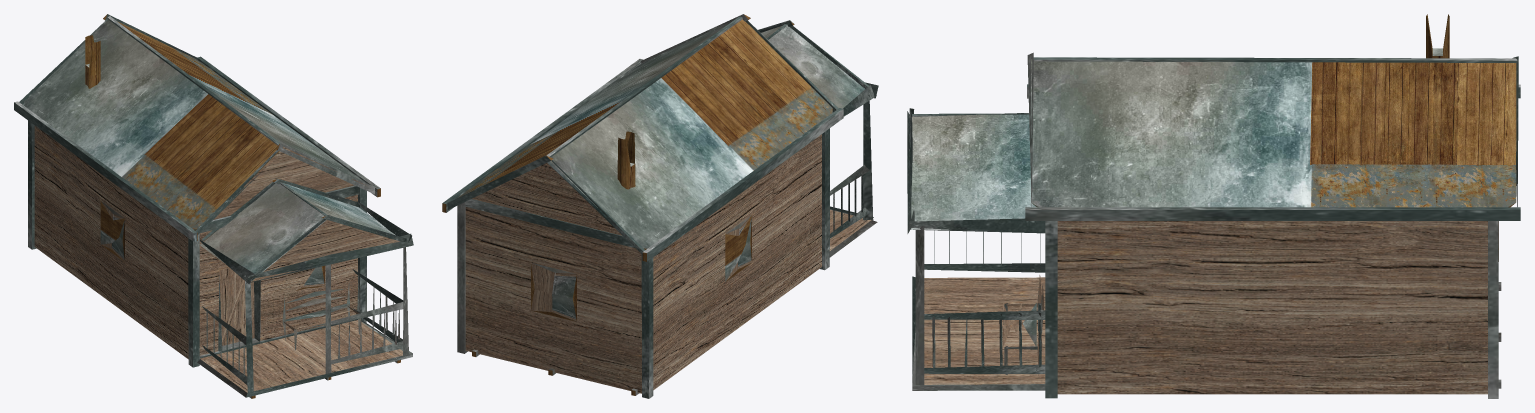
The model's file is Building02.fbx.
3 views of the same model, side by side, from view 1: azimuth 30°, elevation 25°; view 2: azimuth 150°, elevation 25°; view 3: azimuth 270°, elevation 25° (orthographic). The views are drawn at different scales.
Visible parts, largest first — view 1: BUILDING:Cube.009; view 2: BUILDING:Cube.009; view 3: BUILDING:Cube.009.
Boxes of the visible parts, x1=… form: BUILDING:Cube.009: x1=14, y1=14, x2=413, y2=398; BUILDING:Cube.009: x1=442, y1=14, x2=878, y2=398; BUILDING:Cube.009: x1=907, y1=14, x2=1520, y2=398.
Bounding box in the file's own units: 52.75 × 57.72 × 109.
Materials: 1 (1 with a texture image).
